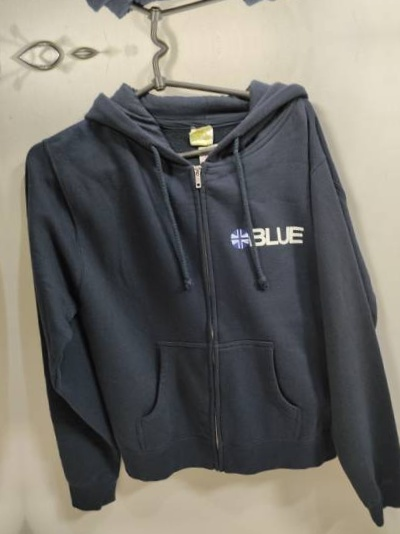Hoodie: (1, 63, 400, 534), (0, 0, 386, 29), (0, 88, 23, 534), (390, 39, 400, 521), (358, 0, 400, 5)
